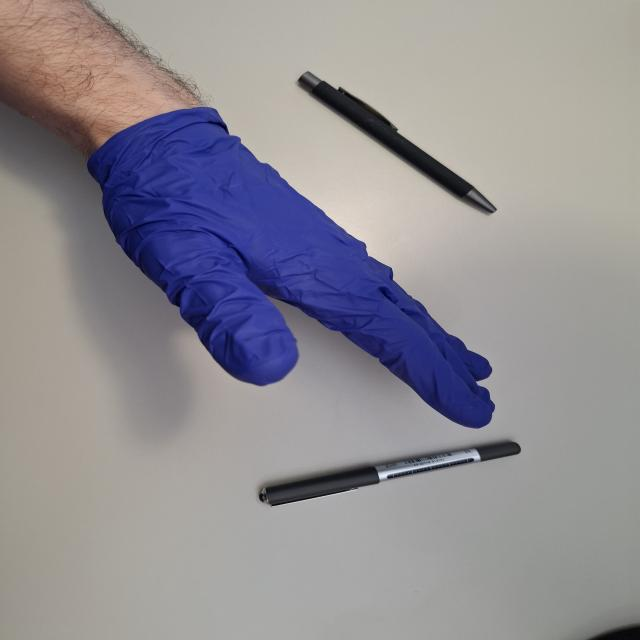glove_on: (82, 98, 502, 434)
